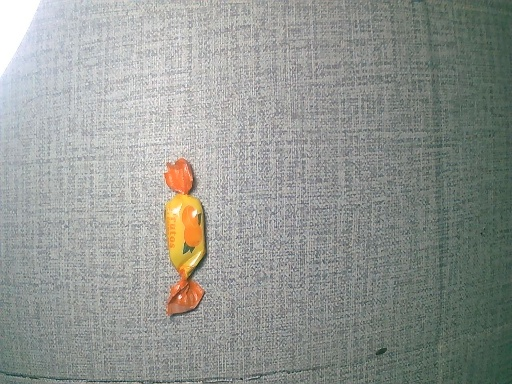plastic: (154, 156, 209, 322)
